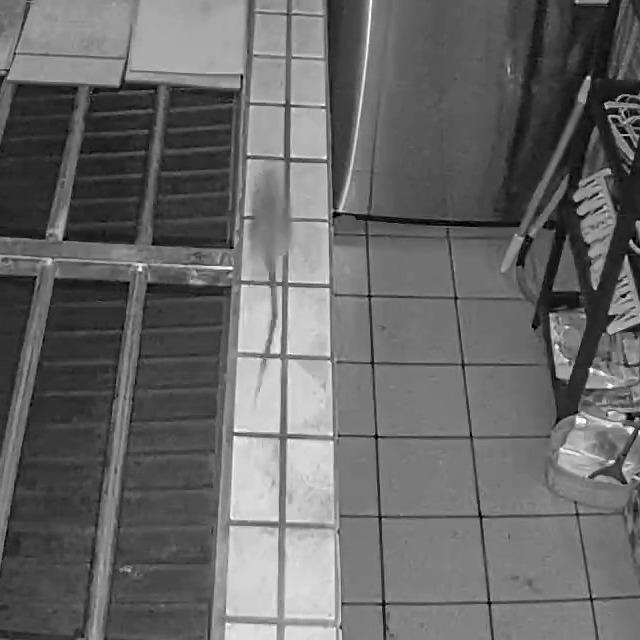rat: (248, 162, 296, 408)
